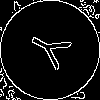Y: (25, 25, 81, 76)
